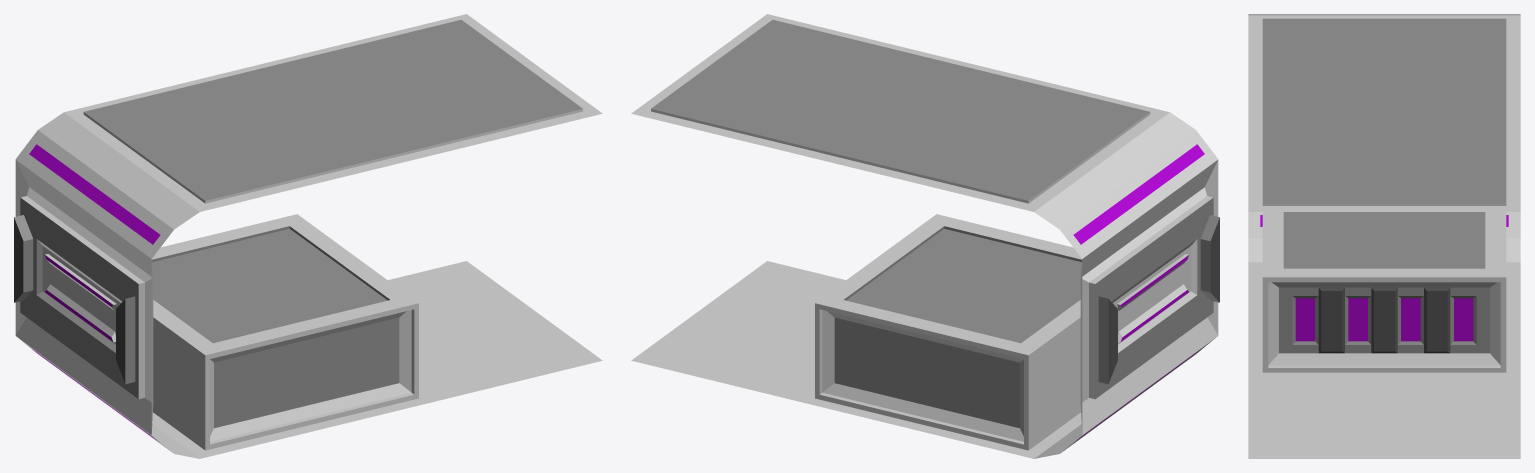
The model's file is Scene_background_3.fbx.
3 views of the same model, side by side, from view 1: azimuth 30°, elevation 25°; view 2: azimuth 150°, elevation 25°; view 3: azimuth 270°, elevation 25° (orthographic).
Visible parts, largest first — view 1: Hull; view 2: Hull; view 3: Hull.
Boxes of the visible parts, x1,y1,x2,y2 form: Hull: [14, 14, 602, 458]; Hull: [631, 14, 1219, 458]; Hull: [1248, 14, 1520, 458].
Bounding box in the file's own units: 197 × 101 × 100.
